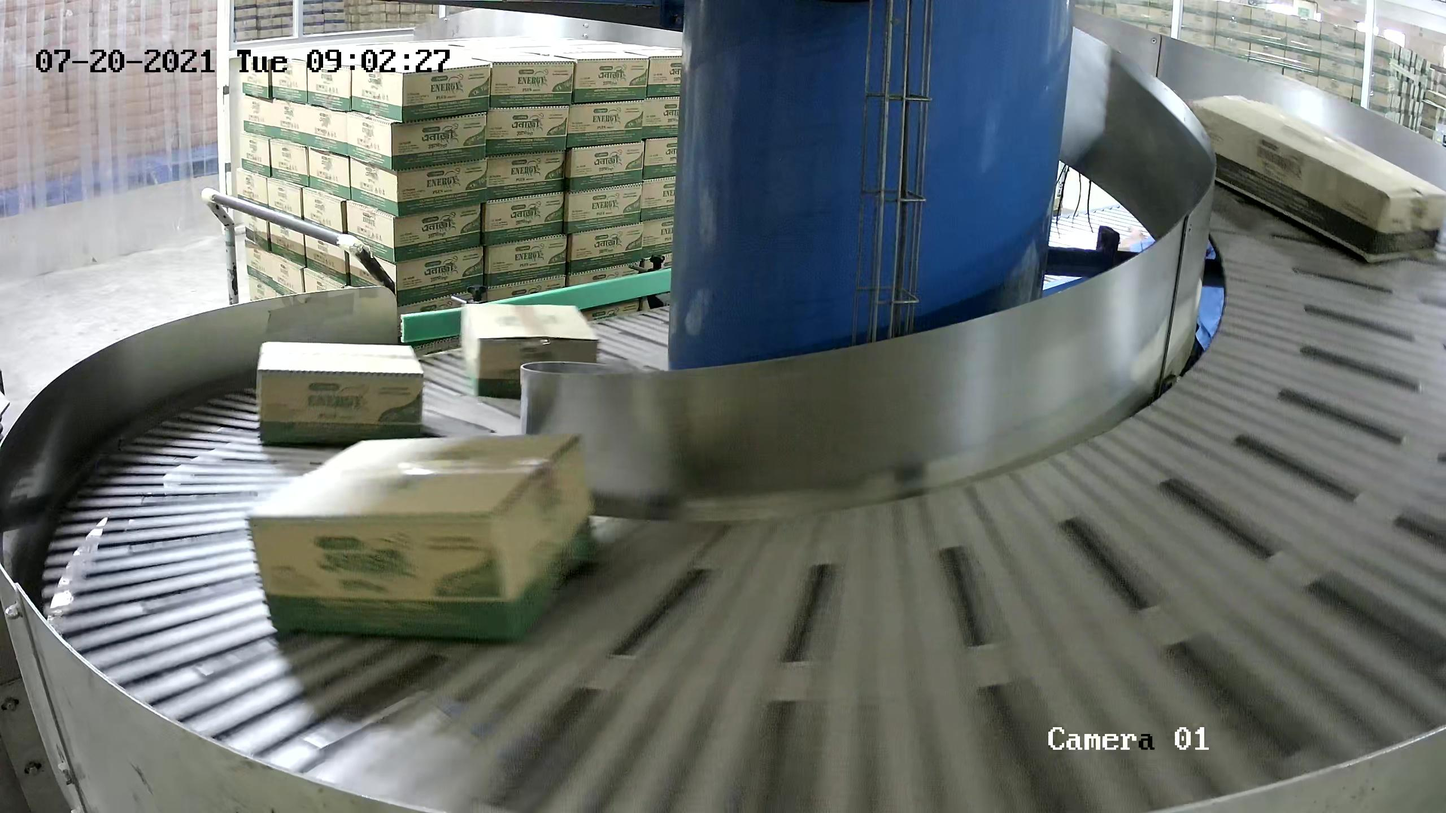Box: (244, 432, 601, 643), (1177, 94, 1446, 267), (257, 340, 426, 448), (460, 303, 601, 404)
